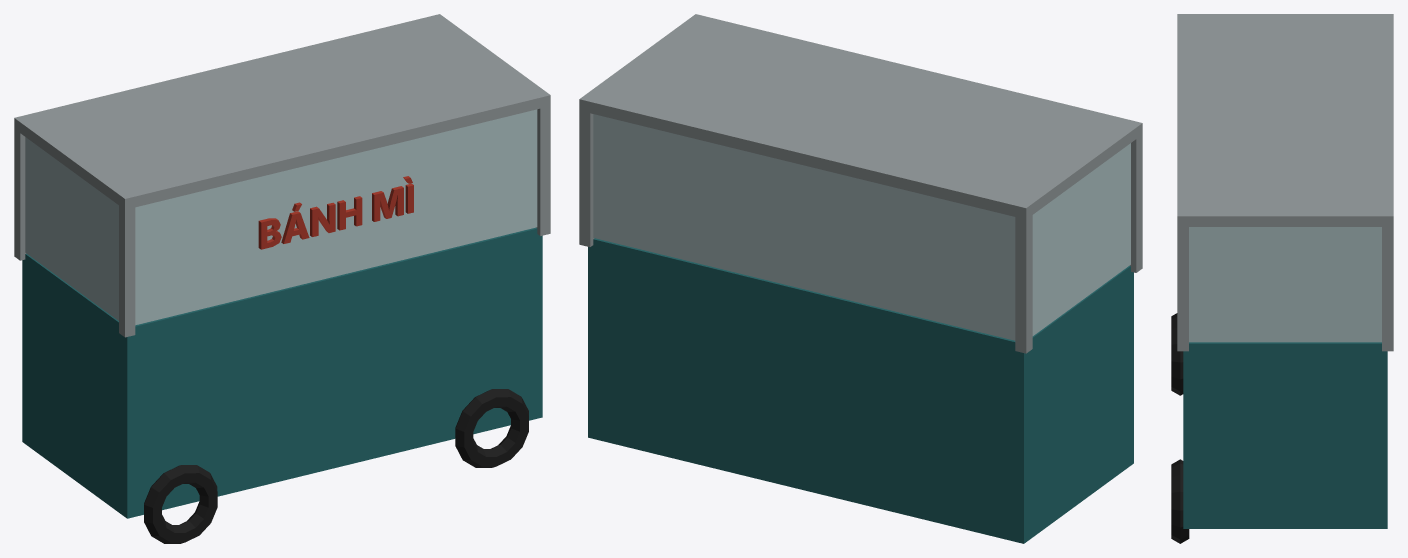
Rendered from xe_banh_mi.glb.
3 views of the same model, side by side, from view 1: azimuth 30°, elevation 25°; view 2: azimuth 150°, elevation 25°; view 3: azimuth 270°, elevation 25° (orthographic). The views are drawn at different scales.
Parts seen in each view (by area): view 1: xe_banh_mi; view 2: xe_banh_mi; view 3: xe_banh_mi.
Part boxes in pixels (box(x1,y1,x2,y2)): xe_banh_mi: box(14, 14, 550, 543); xe_banh_mi: box(579, 14, 1142, 543); xe_banh_mi: box(1171, 14, 1393, 543).
Bounding box in the file's own units: 1.64 × 1.32 × 0.7603.
